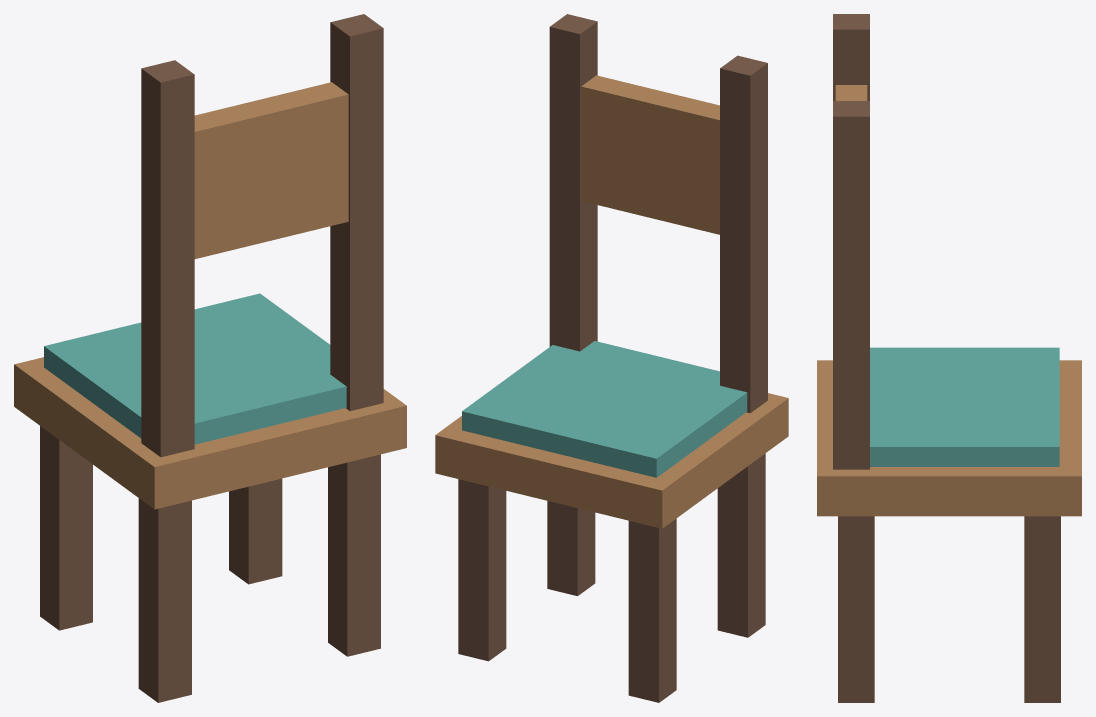
File: chair.glb
3 views of the same model, side by side, from view 1: azimuth 30°, elevation 25°; view 2: azimuth 150°, elevation 25°; view 3: azimuth 270°, elevation 25° (orthographic). The views are drawn at different scales.
Parts seen in each view (by area): view 1: Chair cushion, Chair back, Chair seat, Chair back post, Chair back post.001, Chair leg.001, Chair leg.003, Chair leg, Chair leg.002; view 2: Chair cushion, Chair seat, Chair back, Chair back post, Chair back post.001, Chair leg, Chair leg.002, Chair leg.001, Chair leg.003; view 3: Chair cushion, Chair seat, Chair back post.001, Chair leg.002, Chair leg.003, Chair back post, Chair back.
Part boxes in pixels (x1=…): Chair cushion: x1=44, y1=293, x2=346, y2=444; Chair back: x1=194, y1=82, x2=348, y2=258; Chair seat: x1=14, y1=357, x2=406, y2=509; Chair back post: x1=141, y1=60, x2=194, y2=457; Chair back post.001: x1=330, y1=14, x2=383, y2=410; Chair leg.001: x1=138, y1=498, x2=191, y2=702; Chair leg.003: x1=328, y1=454, x2=380, y2=656; Chair leg: x1=40, y1=426, x2=92, y2=630; Chair leg.002: x1=229, y1=478, x2=282, y2=584; Chair cushion: x1=462, y1=341, x2=747, y2=477; Chair seat: x1=435, y1=393, x2=788, y2=528; Chair back: x1=581, y1=75, x2=719, y2=234; Chair back post: x1=720, y1=55, x2=767, y2=413; Chair back post.001: x1=549, y1=14, x2=597, y2=351; Chair leg: x1=628, y1=518, x2=676, y2=702; Chair leg.002: x1=458, y1=479, x2=506, y2=661; Chair leg.001: x1=717, y1=453, x2=765, y2=637; Chair leg.003: x1=547, y1=501, x2=595, y2=596; Chair cushion: x1=870, y1=347, x2=1059, y2=466; Chair seat: x1=817, y1=360, x2=1081, y2=516; Chair back post.001: x1=833, y1=101, x2=869, y2=469; Chair leg.002: x1=1024, y1=516, x2=1060, y2=702; Chair leg.003: x1=838, y1=516, x2=874, y2=702; Chair back post: x1=833, y1=14, x2=869, y2=100; Chair back: x1=835, y1=85, x2=867, y2=100.
Bounding box in the file's own units: 0.56 × 1.32 × 0.54.
